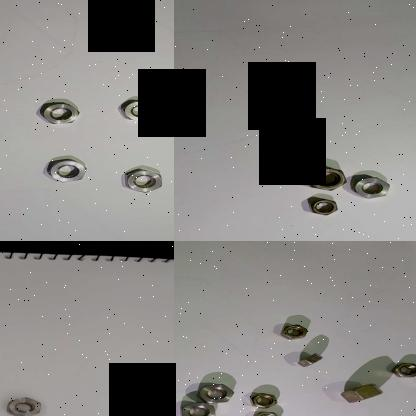NUTS: (114, 167, 167, 194), (302, 164, 350, 192), (349, 173, 395, 201), (336, 382, 388, 406), (116, 98, 162, 125), (39, 99, 80, 127), (44, 158, 87, 184), (193, 380, 236, 406), (1, 397, 43, 416), (304, 196, 342, 216), (289, 350, 326, 370), (178, 398, 218, 416), (246, 390, 278, 411), (387, 358, 416, 381), (275, 322, 309, 341), (247, 411, 282, 416)
